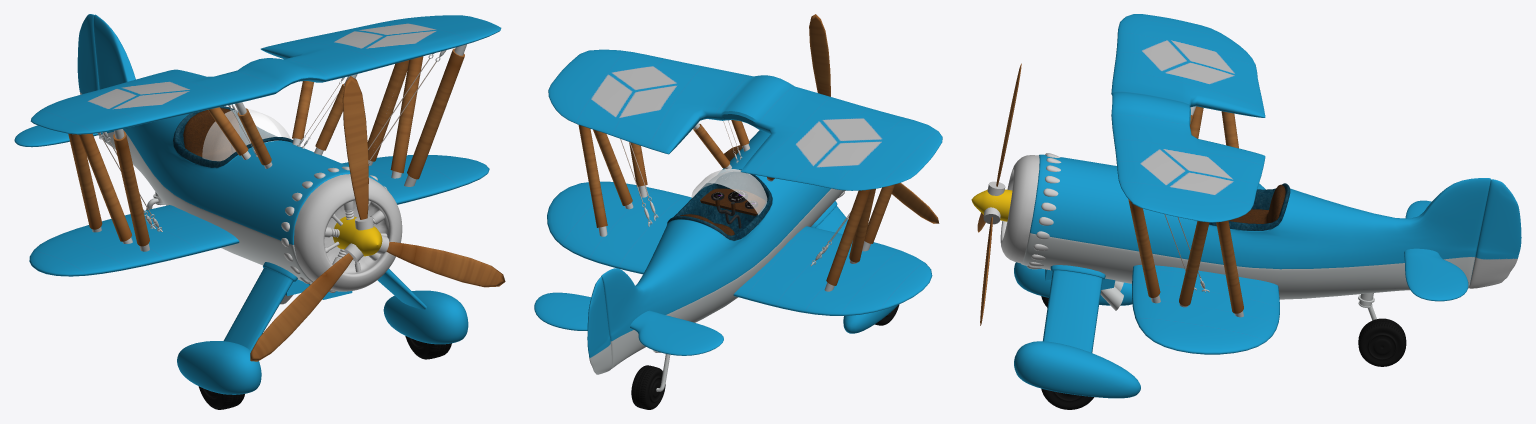
The model's file is aircraft.glb.
3 views of the same model, side by side, from view 1: azimuth 30°, elevation 25°; view 2: azimuth 150°, elevation 25°; view 3: azimuth 270°, elevation 25° (orthographic). The views are drawn at different scales.
Visible parts, largest first — view 1: Top_wings1, Body, Side_wings, Front_wing, Engine, Pipe_left, Left_mudguard1, Pipe_Right, Left_mudguard, Seat, Windshield, Tail (+5 smaller); view 2: Top_wings1, Body, Side_wings, Back_wings, Pipe_left, Pipe_Right, Front_wing, Tail, Windshield, Left_mudguard1, Back_tyre, Interior_base; view 3: Body, Top_wings1, Side_wings, Left_mudguard, Tail, Pipe_left, Back_wings, Engine, Back_tyre, Front_wing, Left_mudguard1, Bolts (+5 smaller).
Part boxes in pixels (x1=…): Top_wings1: x1=30, y1=15, x2=501, y2=134; Body: x1=93, y1=14, x2=385, y2=291; Side_wings: x1=29, y1=155, x2=489, y2=276; Front_wing: x1=250, y1=76, x2=505, y2=361; Engine: x1=294, y1=174, x2=402, y2=291; Pipe_left: x1=292, y1=44, x2=466, y2=186; Left_mudguard1: x1=177, y1=262, x2=297, y2=394; Pipe_Right: x1=68, y1=102, x2=272, y2=251; Left_mudguard: x1=377, y1=269, x2=468, y2=344; Seat: x1=183, y1=108, x2=239, y2=160; Windshield: x1=202, y1=109, x2=290, y2=161; Tail: x1=77, y1=14, x2=106, y2=142; Top_wings1: x1=548, y1=49, x2=942, y2=190; Body: x1=601, y1=130, x2=843, y2=368; Side_wings: x1=547, y1=181, x2=932, y2=315; Back_wings: x1=534, y1=292, x2=723, y2=355; Pipe_left: x1=578, y1=120, x2=749, y2=236; Pipe_Right: x1=767, y1=177, x2=895, y2=291; Front_wing: x1=724, y1=14, x2=939, y2=223; Tail: x1=587, y1=277, x2=611, y2=374; Windshield: x1=691, y1=168, x2=767, y2=214; Left_mudguard1: x1=811, y1=201, x2=898, y2=333; Back_tyre: x1=631, y1=365, x2=665, y2=409; Interior_base: x1=700, y1=188, x2=765, y2=215; Body: x1=1021, y1=154, x2=1490, y2=299; Top_wings1: x1=1111, y1=14, x2=1265, y2=222; Side_wings: x1=1132, y1=183, x2=1279, y2=354; Left_mudguard: x1=1014, y1=265, x2=1140, y2=398; Tail: x1=1469, y1=179, x2=1521, y2=288; Pipe_left: x1=1128, y1=199, x2=1243, y2=317; Back_wings: x1=1404, y1=200, x2=1468, y2=301; Engine: x1=1000, y1=155, x2=1039, y2=263; Back_tyre: x1=1358, y1=318, x2=1406, y2=366; Front_wing: x1=977, y1=63, x2=1021, y2=325; Left_mudguard1: x1=1014, y1=262, x2=1132, y2=305; Bolts: x1=1026, y1=153, x2=1061, y2=269.
Size of the model in its own units: 0.1953 by 0.1381 by 0.2293.
Materials: 8 (7 with a texture image).
